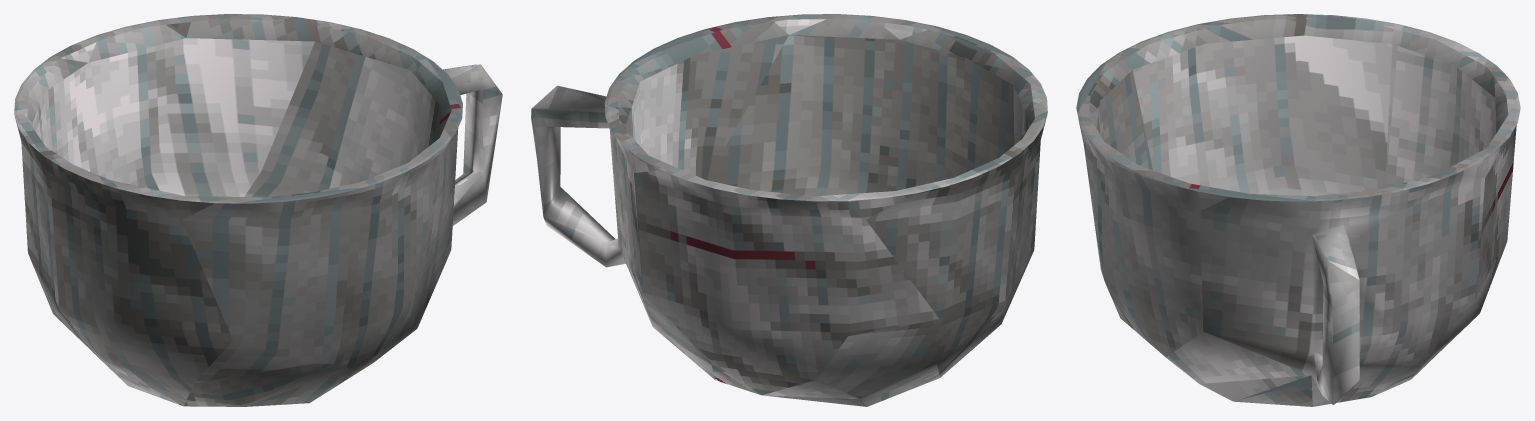
The model's file is Tazza.fbx.
3 renders of one model, left to right at view 1: azimuth 30°, elevation 25°; view 2: azimuth 150°, elevation 25°; view 3: azimuth 270°, elevation 25°, orthographic.
Parts seen in each view (by area): view 1: tazza; view 2: tazza; view 3: tazza.
Part boxes in pixels (box(x1,y1,x2,y2)): tazza: box(14, 14, 502, 406); tazza: box(531, 14, 1047, 406); tazza: box(1076, 14, 1520, 406).
Size of the model in its own units: 0.2701 by 0.1352 by 0.2208.
1 material, 1 textured.
